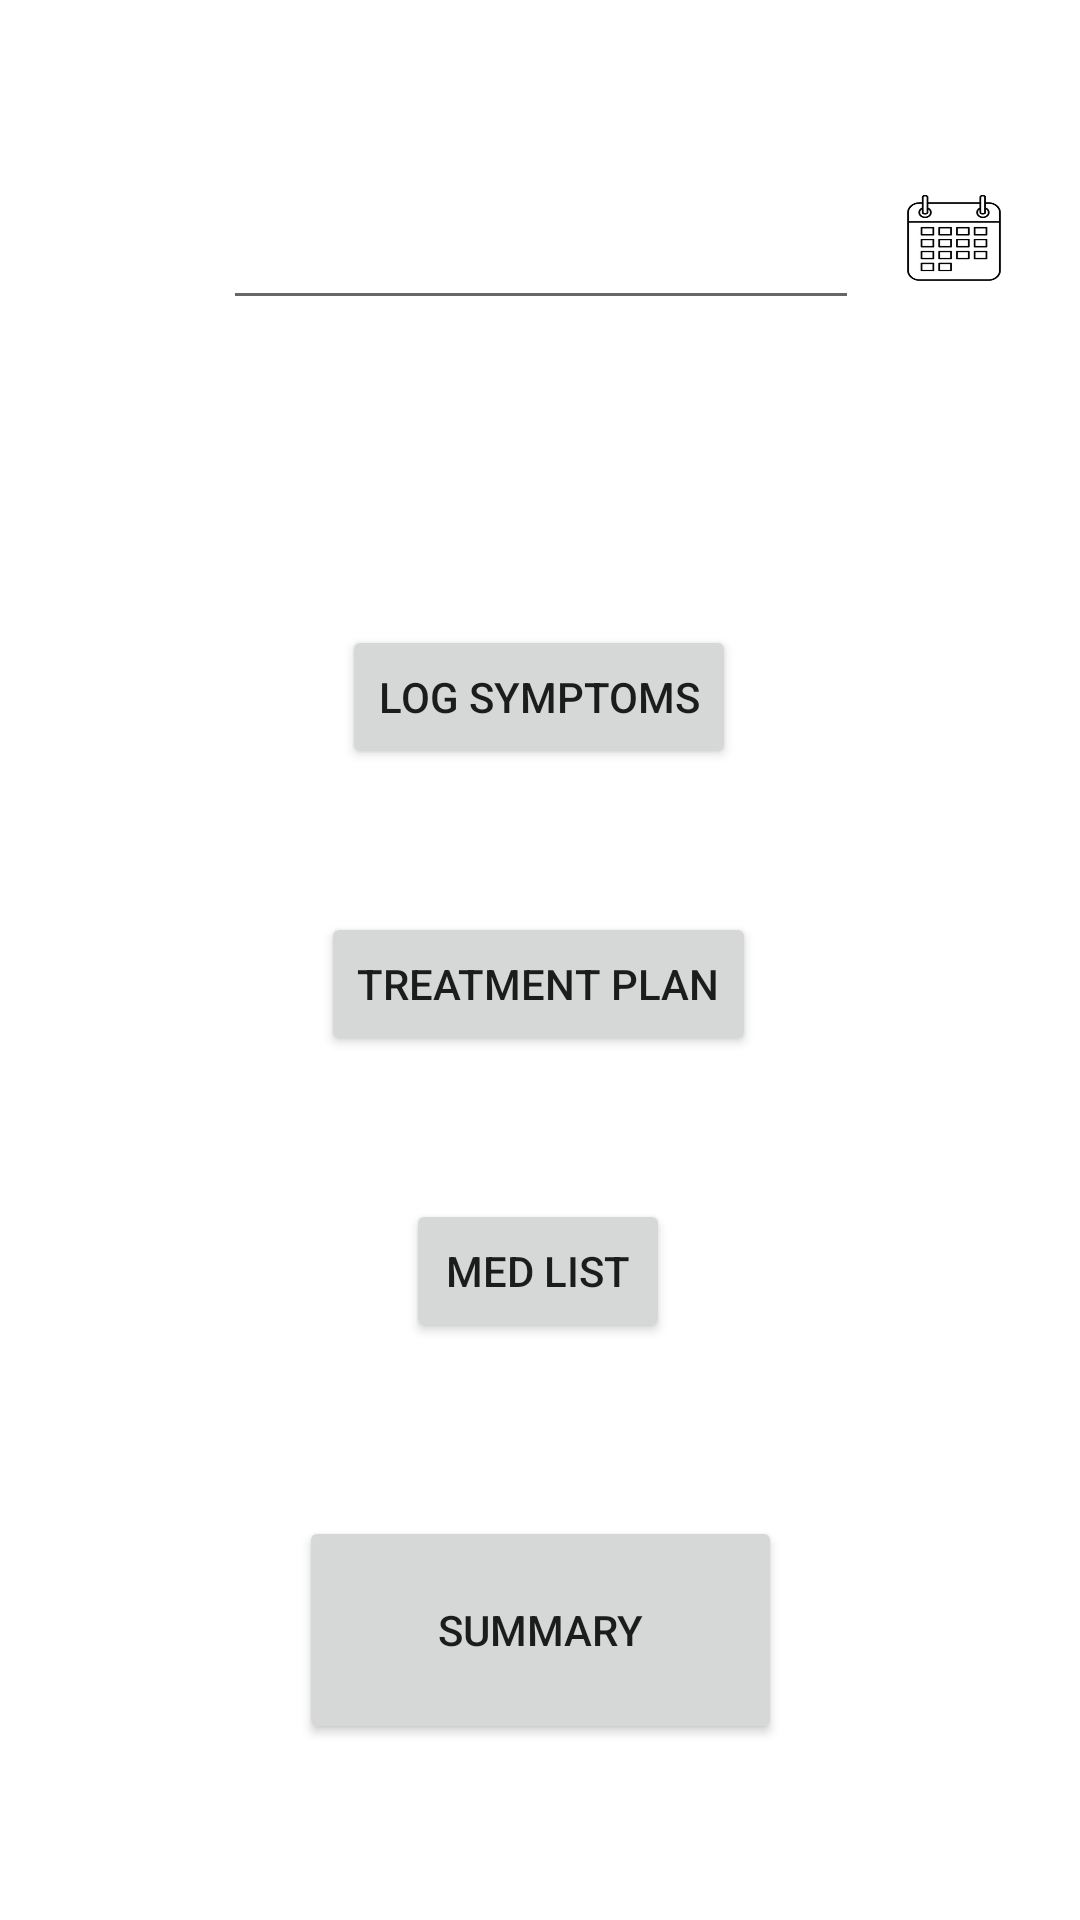

Screen size 1080w x 1920h. Icon name, then its center in pixels as (x,y):
calendar: (954,238)
